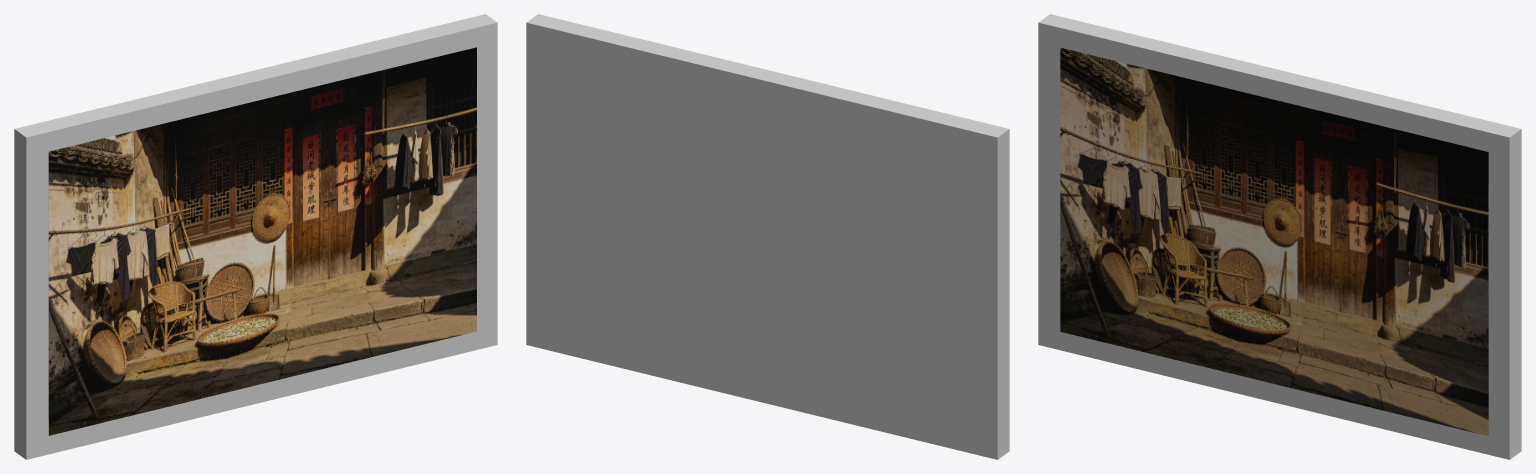
The picture shows the model from 3 angles, left to right: view 1: azimuth 30°, elevation 25°; view 2: azimuth 150°, elevation 25°; view 3: azimuth 330°, elevation 25°; orthographic projection.
Parts seen in each view (by area): view 1: 平面, 立方体; view 2: 立方体; view 3: 平面, 立方体.
Part boxes in pixels (<box>): 平面: <box>48,47,476,435</box>; 立方体: <box>14,14,497,459</box>; 立方体: <box>526,14,1009,459</box>; 平面: <box>1060,47,1488,436</box>; 立方体: <box>1038,14,1521,459</box>.
Bounding box in the file's own units: 3.47 × 2.27 × 0.1551.
1 material, 1 textured.
